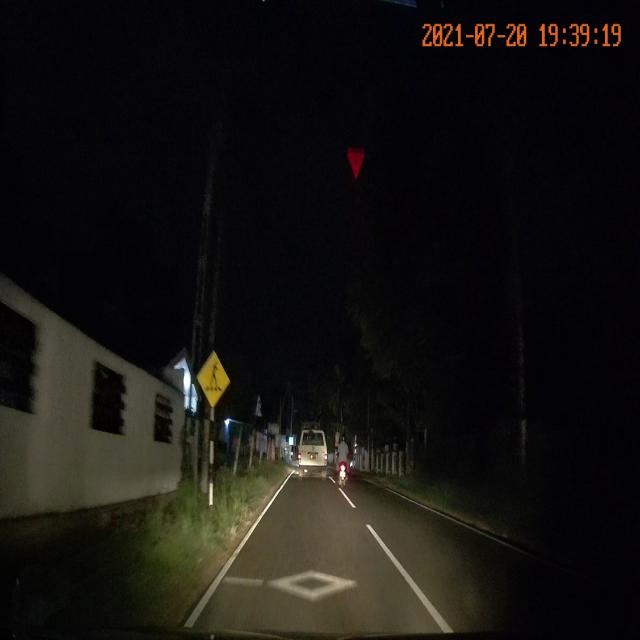diamond: (182, 556, 457, 633)
